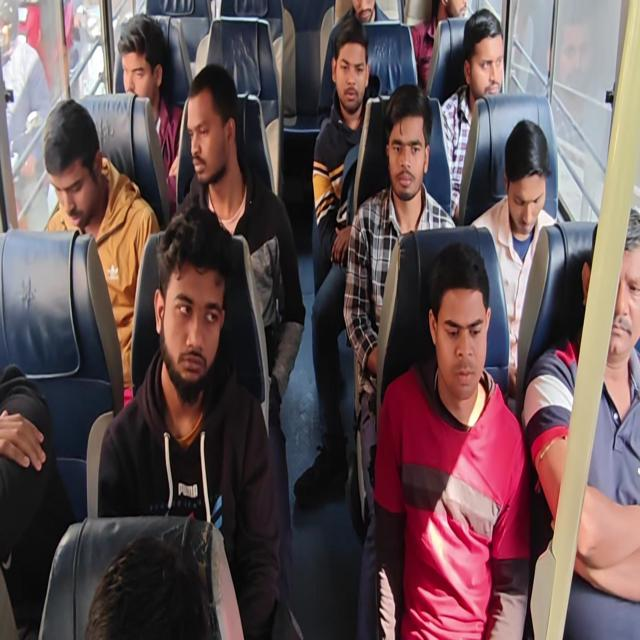person: (152, 200, 248, 415), (85, 518, 222, 640), (424, 243, 500, 432), (575, 195, 640, 402), (40, 92, 109, 230), (180, 59, 246, 188), (384, 86, 443, 206), (501, 116, 549, 237), (463, 2, 516, 108), (115, 8, 166, 100), (333, 20, 373, 124), (432, 0, 474, 40), (345, 0, 383, 40)
